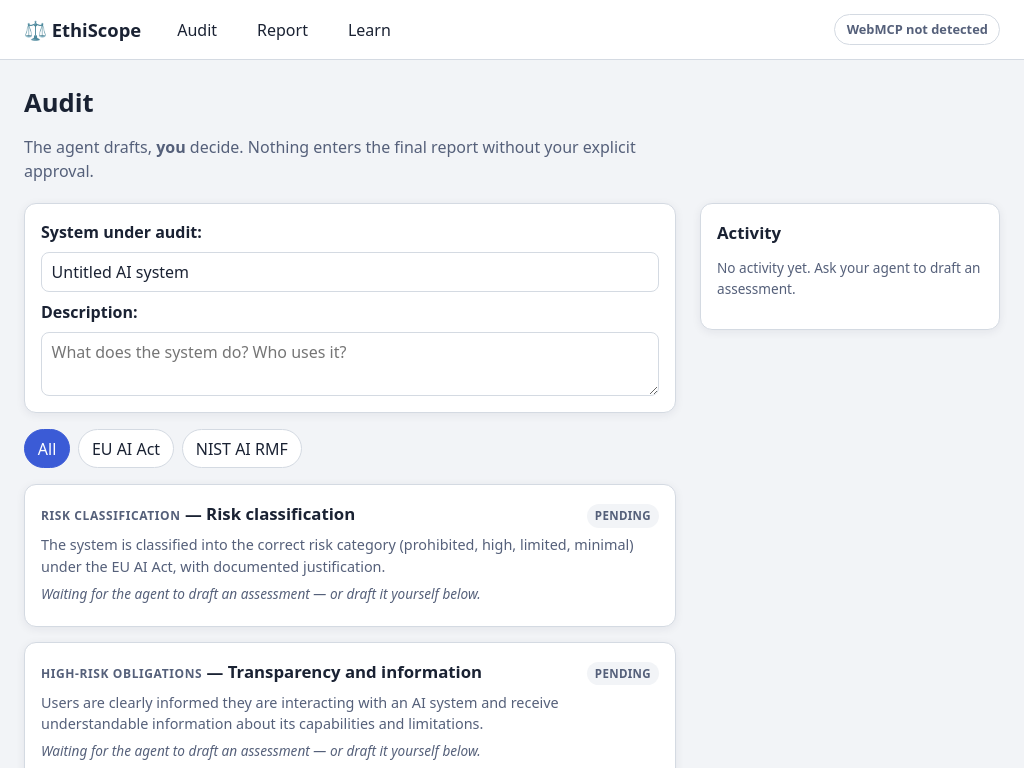
Test: página Auditoría › el filtro NIST oculta los criterios EU
This screenshot has width=1024, height=768.
Click the button "NIST AI RMF". click: (242, 449)
box: [182,429,302,468]
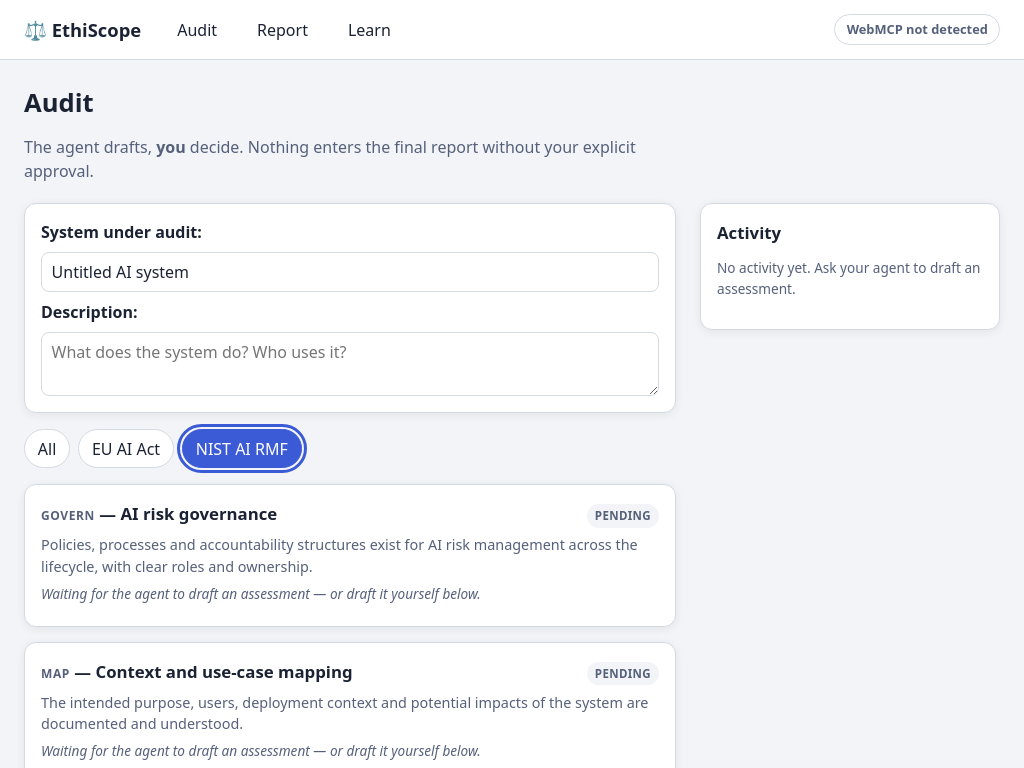
Expected: the heading "GOVERN — AI risk governance" is shown, [41,502,277,525]
Expected: the heading "Transparency and information" is gone
